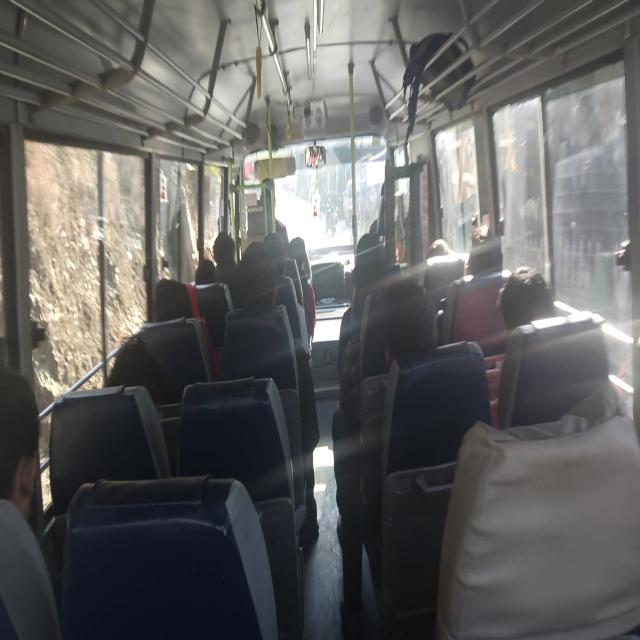person: (236, 238, 320, 542), (0, 367, 60, 638), (0, 368, 41, 522), (104, 334, 168, 412), (497, 265, 554, 332), (287, 236, 316, 349), (212, 230, 242, 308), (152, 278, 192, 322), (212, 230, 236, 270)
